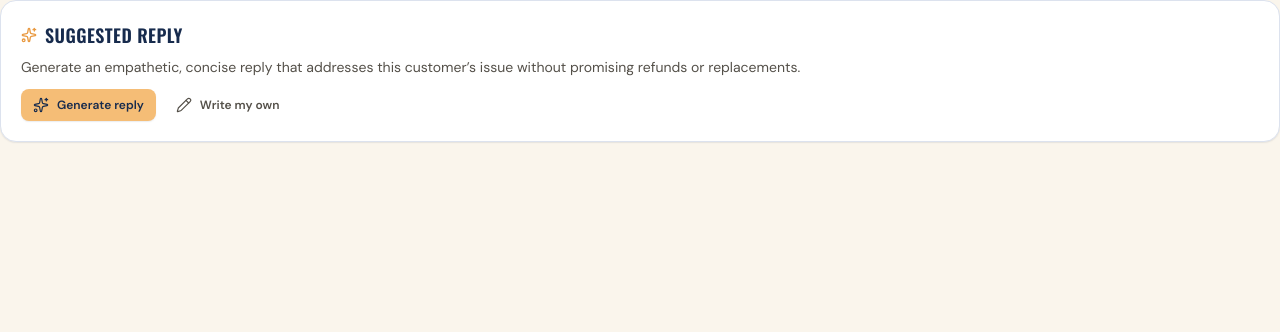
Test case: ReplyPanel editing › cannot save an empty reply
The image size is (1280, 332).
Click the button "Write my own" at (228, 105), box [164,89,291,121]
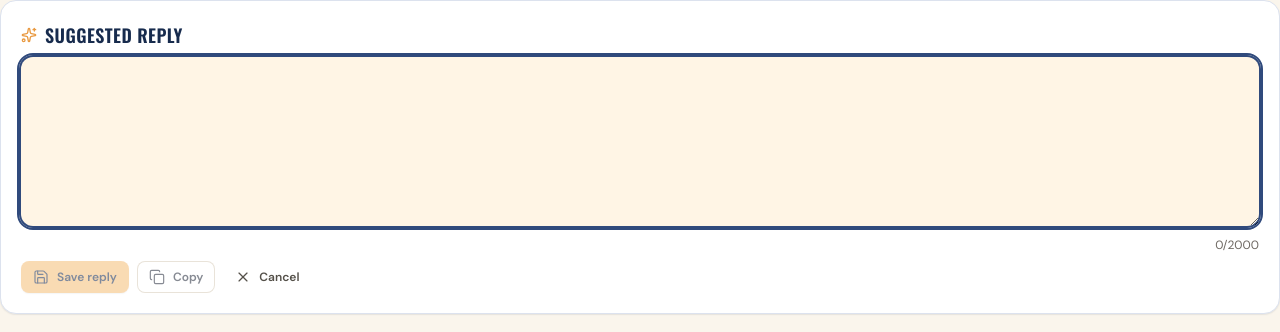
Result: the button "Save reply" is disabled at [21,260,129,292]
